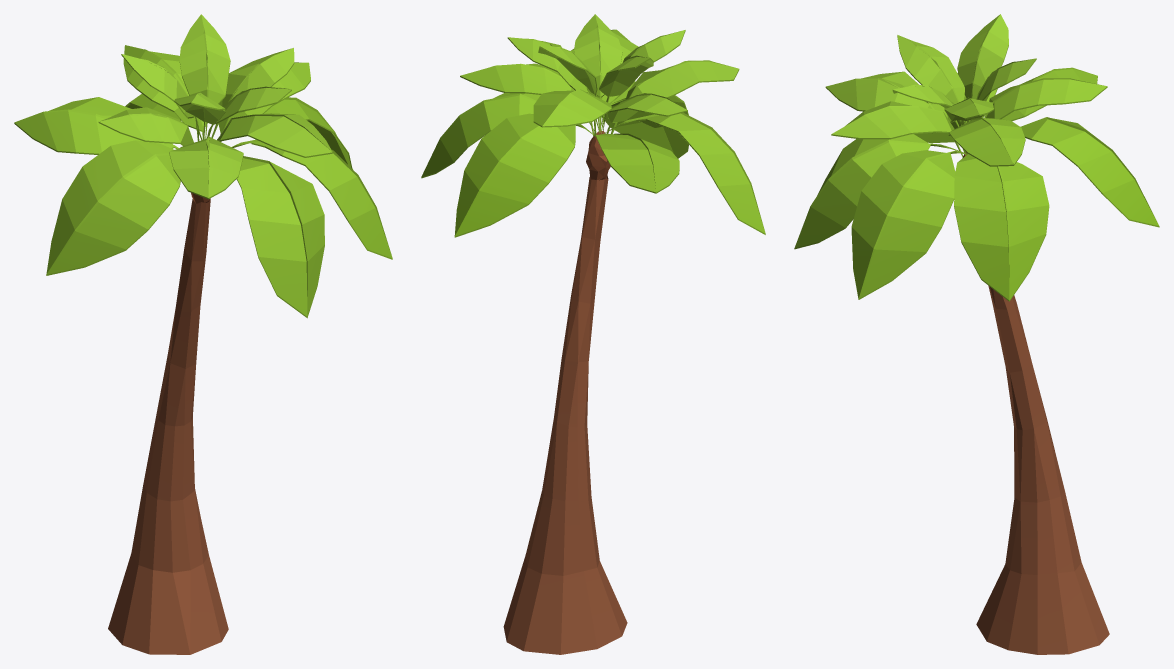
Rendered from Palm Tree .fbx.
3 renders of one model, left to right at view 1: azimuth 30°, elevation 25°; view 2: azimuth 150°, elevation 25°; view 3: azimuth 270°, elevation 25°, orthographic. The views are drawn at different scales.
Visible parts, largest first — view 1: Palm Tree; view 2: Palm Tree; view 3: Palm Tree.
Part boxes in pixels (x1,y1,x2,y2): Palm Tree: (14,14,392,654); Palm Tree: (421,14,765,654); Palm Tree: (794,14,1159,654).
Bounding box in the file's own units: 264 × 456 × 257.
